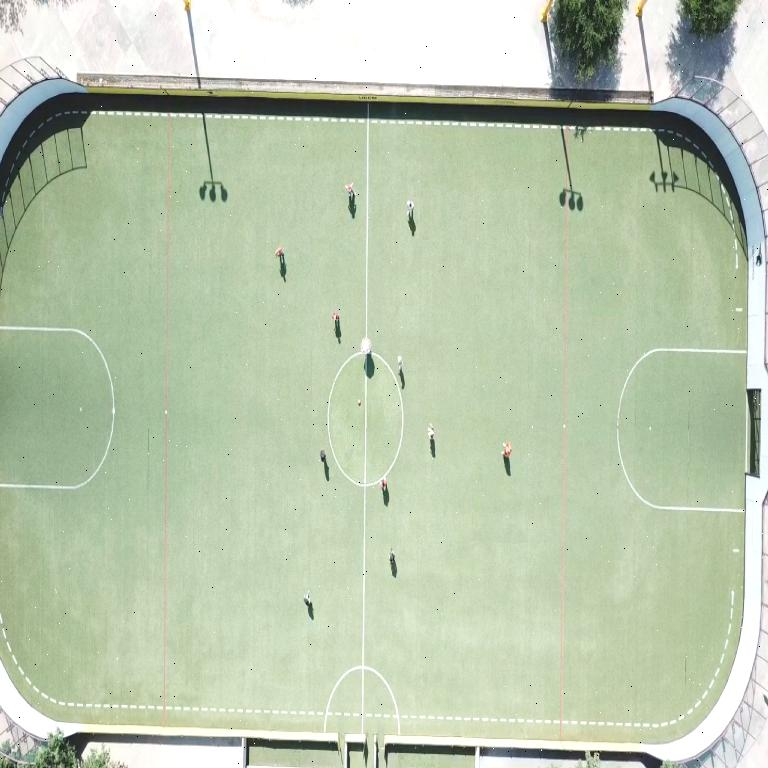AC: (617, 348, 746, 511), (0, 327, 115, 490)
B: (358, 400, 361, 404)
MC: (361, 360, 367, 732)
P: (361, 337, 371, 355), (346, 184, 355, 200), (503, 441, 511, 458), (276, 246, 284, 262), (407, 200, 414, 218), (380, 477, 388, 492), (304, 590, 311, 607), (428, 424, 434, 441), (332, 312, 339, 325), (398, 356, 402, 374), (321, 450, 326, 463), (390, 548, 394, 563)
